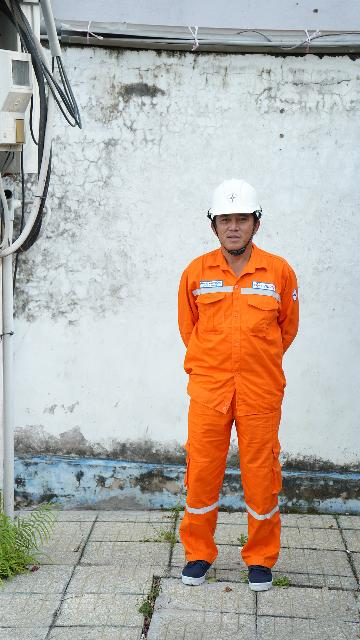helmet: (203, 174, 278, 219)
shoes: (237, 559, 308, 605), (179, 547, 225, 590)
